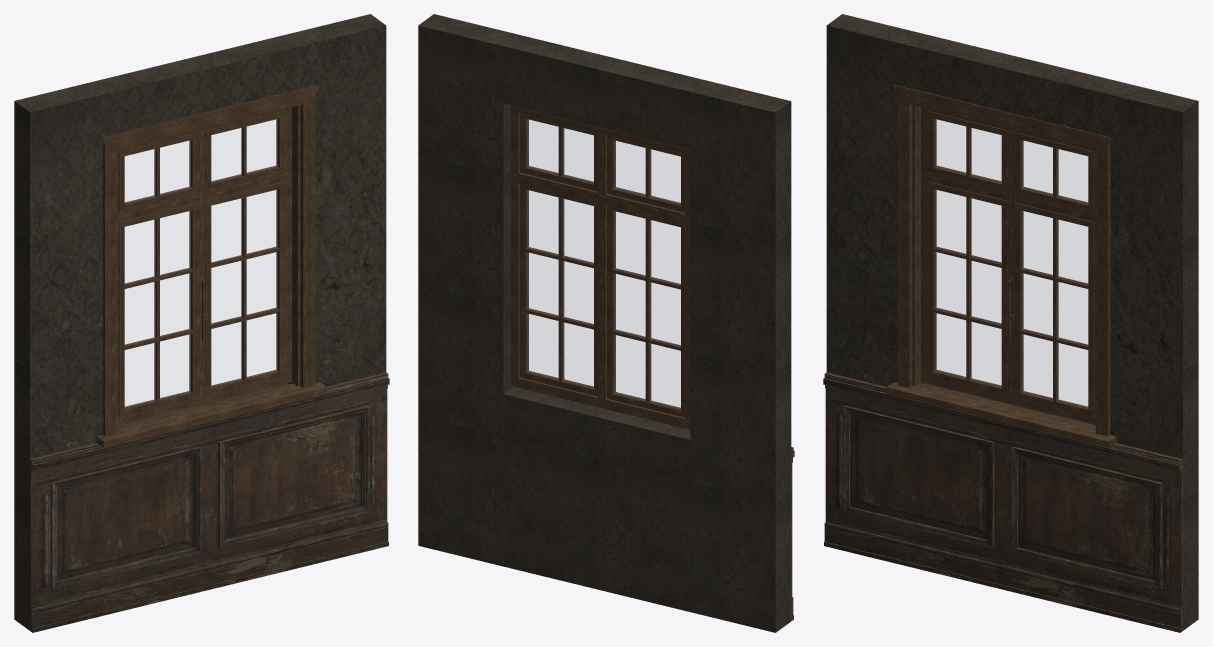
The model's file is Wall_Back_Window.fbx.
3 views of the same model, side by side, from view 1: azimuth 30°, elevation 25°; view 2: azimuth 150°, elevation 25°; view 3: azimuth 330°, elevation 25° (orthographic).
Visible parts, largest first — view 1: Wall_Back_Window; view 2: Wall_Back_Window; view 3: Wall_Back_Window.
Boxes of the visible parts, box(x1,y1,x2,y2) form: Wall_Back_Window: box(14, 14, 389, 632); Wall_Back_Window: box(418, 14, 794, 632); Wall_Back_Window: box(823, 14, 1198, 632).
Size of the model in its own units: 4.6 by 6.4 by 0.51.
